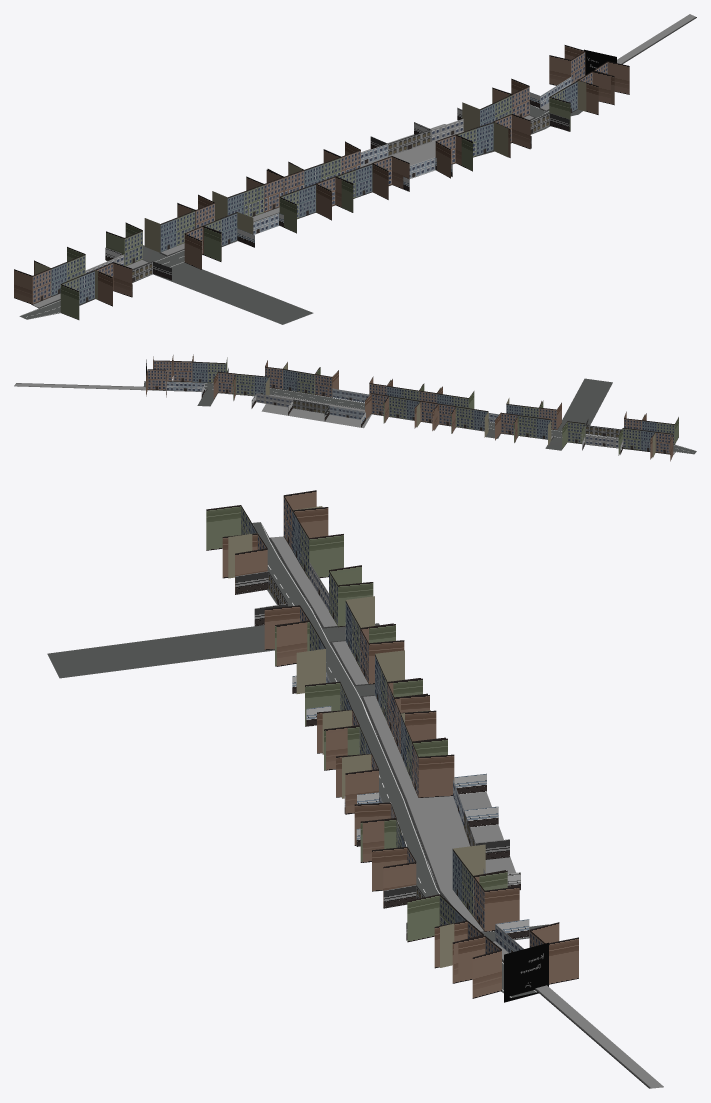
Rendered from TrnavaOprava2.fbx.
3 renders of one model, top to bottom at view 1: azimuth 30°, elevation 25°; view 2: azimuth 150°, elevation 25°; view 3: azimuth 270°, elevation 25°, orthographic. The views are drawn at different scales.
Parts seen in each view (by area): view 1: map.osm_roads_residential.002, Chodnik.004, Budovy1.023, Budovy1.003, Budovy1.019, Budovy1.014, Budovy1.006, Budovy1.016, Budovy1.021, Budovy1.015, Budovy1.013, Budovy1.005 (+23 smaller); view 2: map.osm_roads_residential.002, Chodnik.004, Budovy1.001, Budovy1.003, Budovy1.006, Budovy1.011, Budovy1.009, Budovy1.023, Budovy1.025, Budovy1.010, Budovy1.002, Budovy1.012 (+24 smaller); view 3: map.osm_roads_residential.002, Chodnik.004, Budovy1.025, Budovy1.027, Budovy1.020, Budovy1.014, Budovy1.011, Plane.006, Budovy1.001, Budovy1.012, Budovy1.013, Budovy1.010 (+18 smaller).
Part boxes in pixels (x1,y1,x2,y2): map.osm_roads_residential.002: (19, 105, 582, 324); Chodnik.004: (31, 14, 696, 308); Budovy1.023: (456, 122, 508, 171); Budovy1.003: (144, 203, 195, 252); Budovy1.019: (203, 212, 253, 261); Budovy1.014: (60, 270, 111, 319); Budovy1.006: (212, 176, 263, 220); Budovy1.016: (279, 184, 331, 233); Budovy1.021: (372, 156, 409, 199); Budovy1.015: (96, 262, 132, 306); Budovy1.013: (549, 45, 585, 85); Budovy1.005: (14, 260, 50, 304); map.osm_roads_residential.002: (143, 378, 696, 454); Chodnik.004: (14, 383, 675, 454); Budovy1.001: (618, 428, 655, 457); Budovy1.003: (514, 415, 551, 445); Budovy1.006: (451, 406, 488, 437); Budovy1.011: (233, 373, 269, 403); Budovy1.009: (383, 396, 420, 427); Budovy1.023: (283, 363, 320, 394); Budovy1.025: (192, 356, 227, 383); Budovy1.010: (365, 393, 388, 422); Budovy1.002: (562, 421, 585, 448); Budovy1.012: (213, 372, 235, 400); map.osm_roads_residential.002: (47, 522, 548, 997); Chodnik.004: (269, 536, 663, 1088); Budovy1.025: (407, 894, 466, 967); Budovy1.027: (452, 936, 501, 998); Budovy1.020: (264, 605, 309, 666); Budovy1.014: (206, 505, 257, 578); Budovy1.011: (452, 844, 507, 916); Plane.006: (504, 942, 548, 1002); Budovy1.001: (292, 506, 343, 578); Budovy1.012: (473, 870, 519, 931); Budovy1.013: (529, 922, 578, 984); Budovy1.010: (412, 737, 454, 797).
Size of the model in its own units: 56233 by 2226 by 25833.
12 materials, 7 textured.
